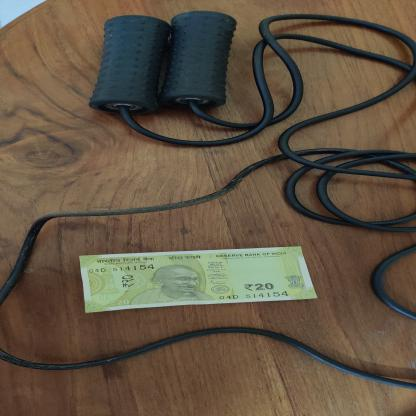New20Front: (76, 244, 322, 314)
